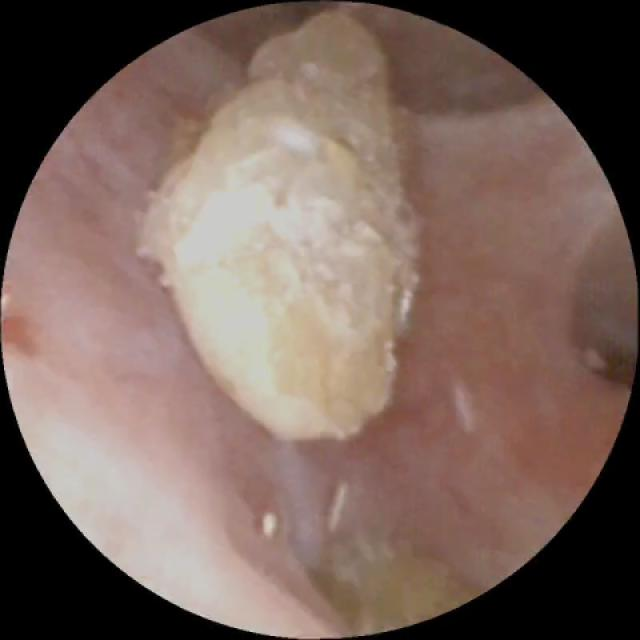stone: (136, 15, 417, 438), (313, 548, 470, 628)
tissue: (10, 25, 622, 626)
